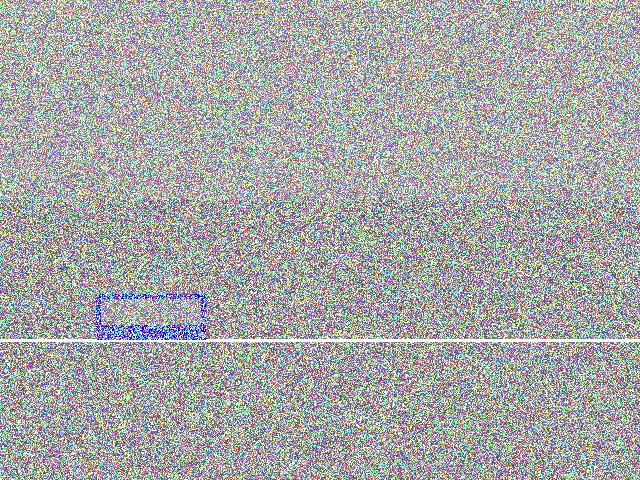car: (232, 148, 359, 227), (327, 369, 436, 420)
